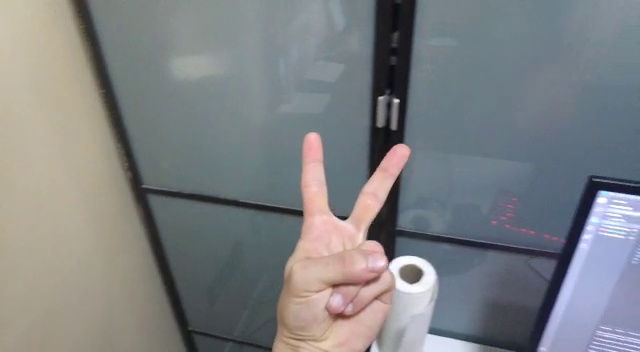Peace: (266, 129, 413, 351)
